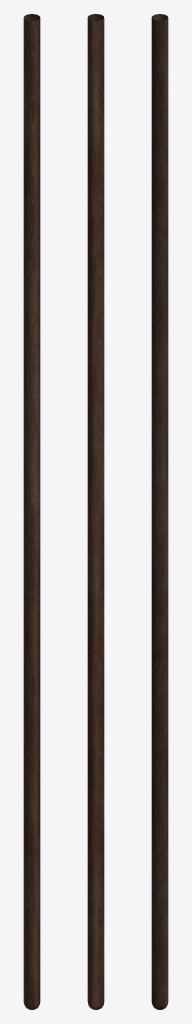
File: wm_swan_knight_spear_pg_handle.fbx
3 renders of one model, left to right at view 1: azimuth 90°, elevation 25°; view 2: azimuth 150°, elevation 25°; view 3: azimuth 270°, elevation 25°, orthographic.
Parts seen in each view (by area): view 1: wm_swan_knight_spear_pg_handle; view 2: wm_swan_knight_spear_pg_handle; view 3: wm_swan_knight_spear_pg_handle.
Part boxes in pixels (x1,y1,x2,y2): wm_swan_knight_spear_pg_handle: (23, 14, 40, 1009); wm_swan_knight_spear_pg_handle: (87, 14, 104, 1009); wm_swan_knight_spear_pg_handle: (151, 14, 168, 1009).
Size of the model in its own units: 0.0294 by 0.0294 by 1.95.
Materials: 1 (1 with a texture image).
